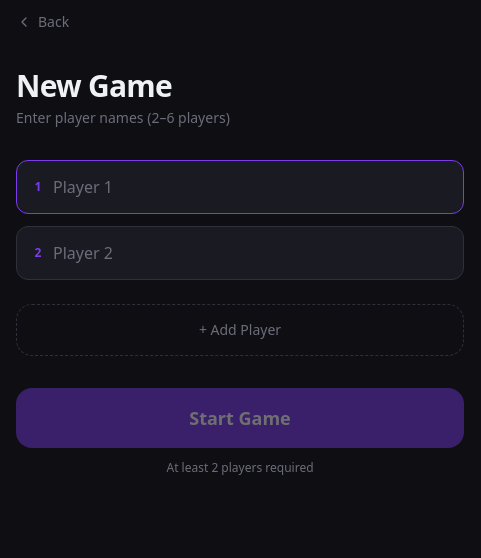
Test: GameSetup › adds a player input when clicking + Add Player
The width and height of the screenshot is (481, 558).
Step 1. Click the button "+ Add Player" → [240, 330], box x1=16 y1=304 x2=464 y2=356
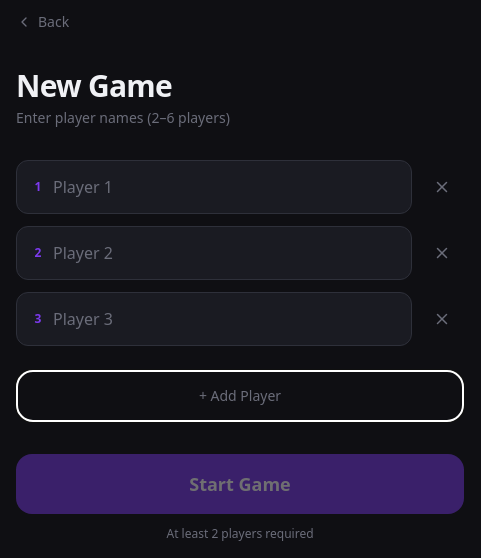
Expected: the field with placeholder "Player 3" is shown, x1=16 y1=292 x2=412 y2=346
